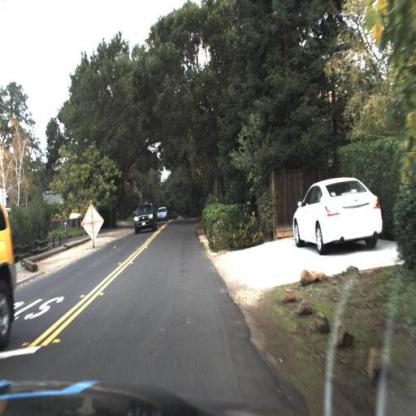car: (292, 176, 386, 257), (134, 203, 157, 235), (158, 206, 168, 224)
